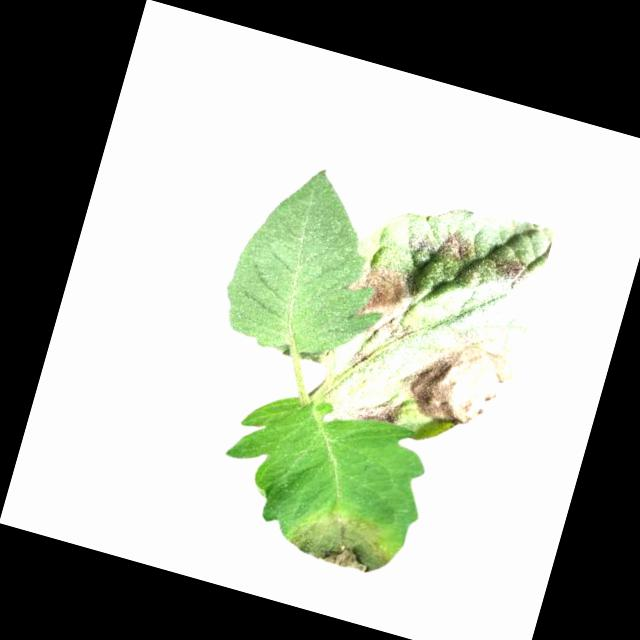Late_blight: (392, 311, 525, 437), (284, 499, 400, 580), (340, 261, 420, 345), (405, 216, 480, 268), (346, 389, 403, 430), (490, 254, 534, 295), (347, 345, 373, 372)
healthy: (214, 152, 417, 375)
